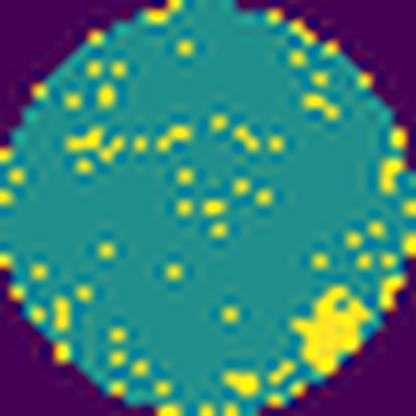Edge-Loc: (290, 284, 376, 380)
